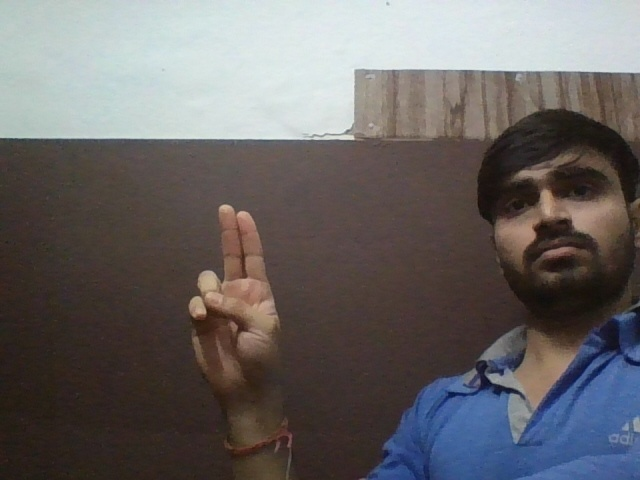U: (183, 196, 292, 392)
